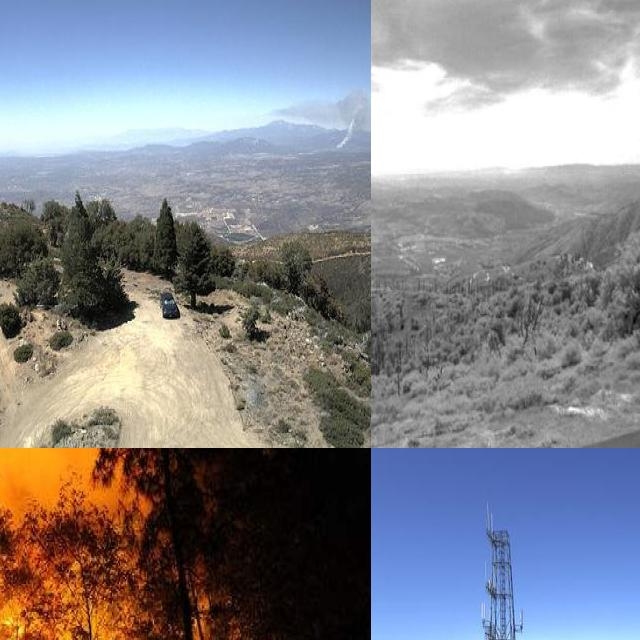fire: (0, 517, 241, 640)
smoke: (266, 86, 371, 154)
